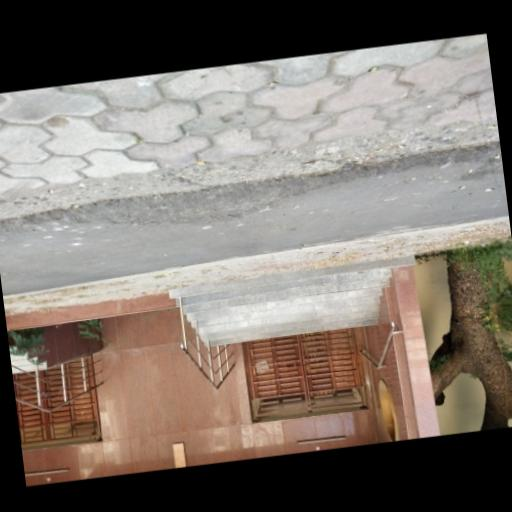stairs: (169, 256, 414, 343), (10, 354, 36, 374)
